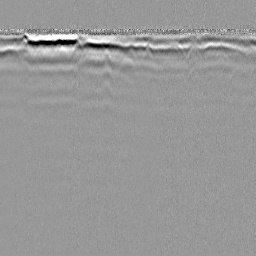cavity: (117, 55, 138, 77)
